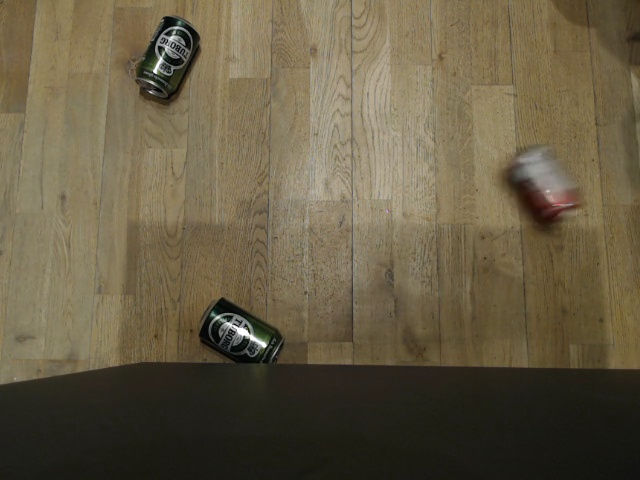beer: (193, 294, 286, 368), (133, 14, 204, 102)
cola: (505, 143, 586, 230)
